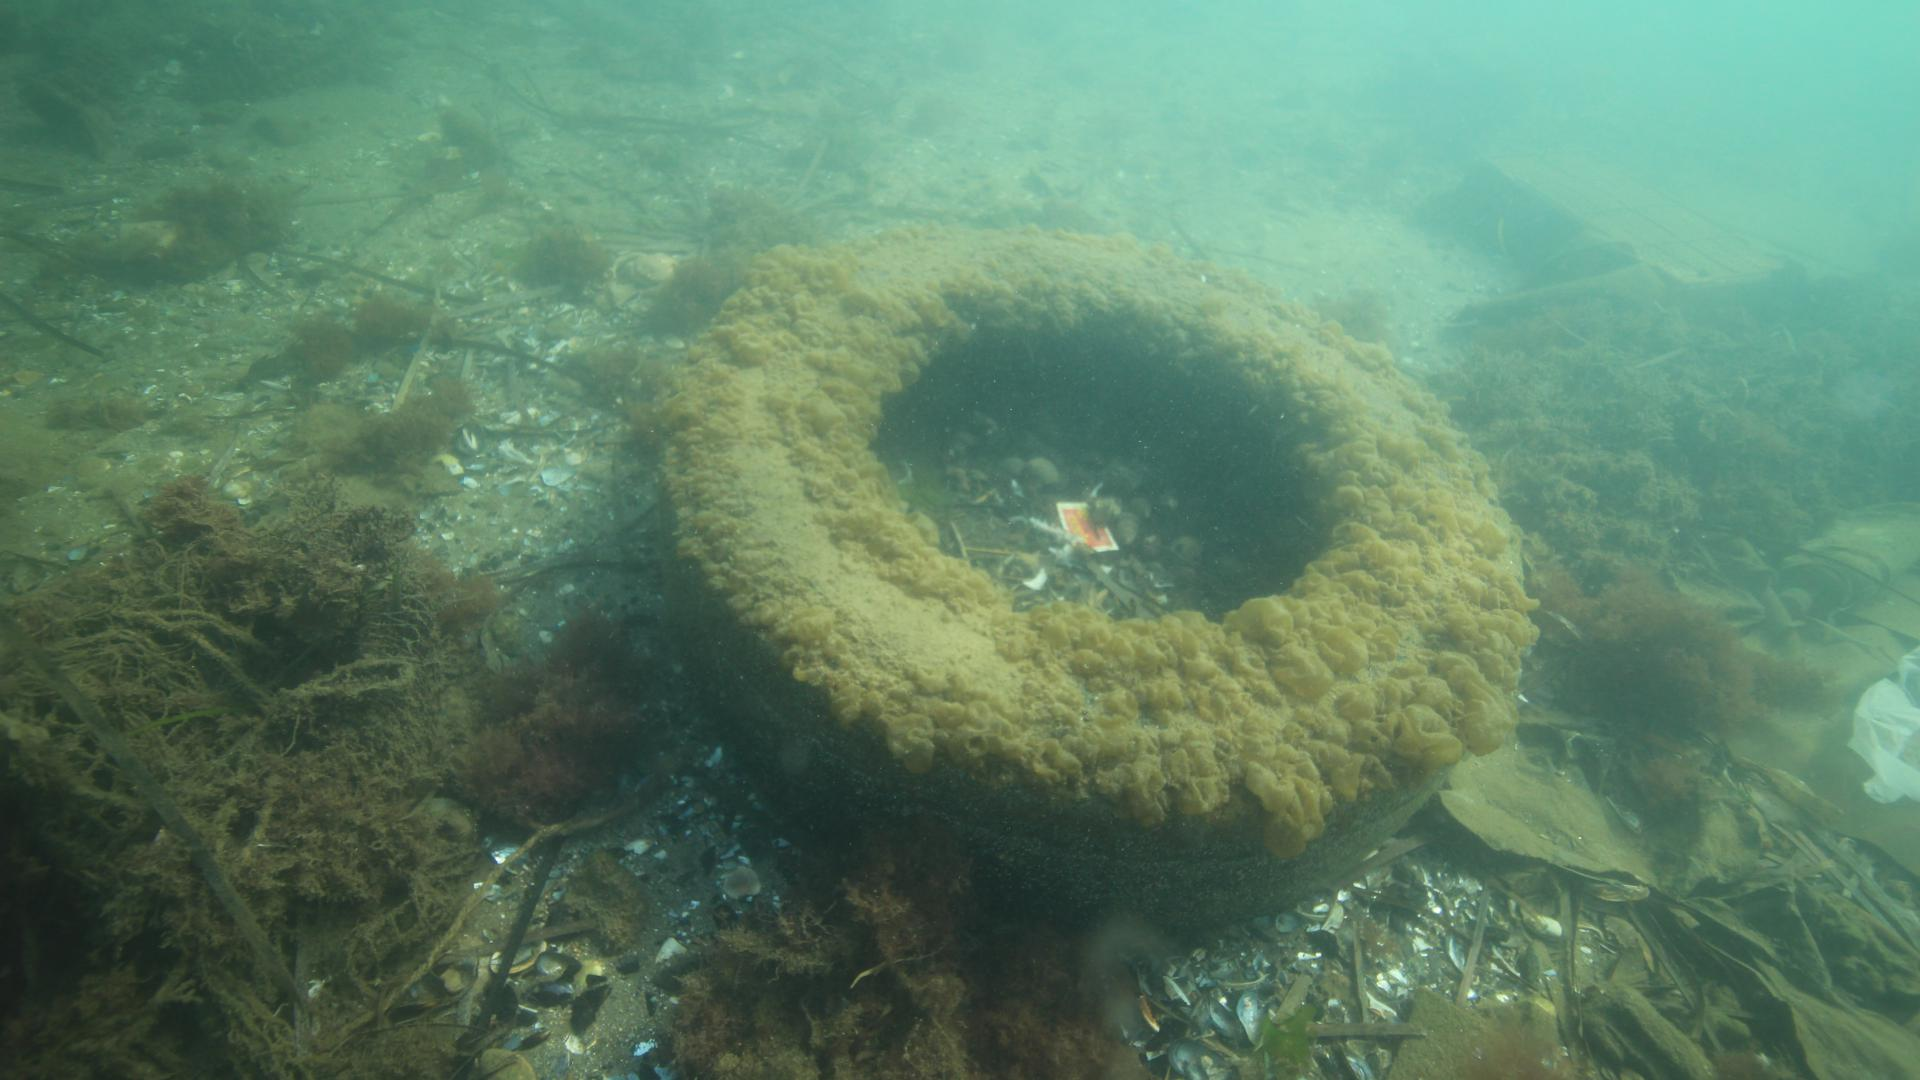tire: (695, 232, 1506, 926)
